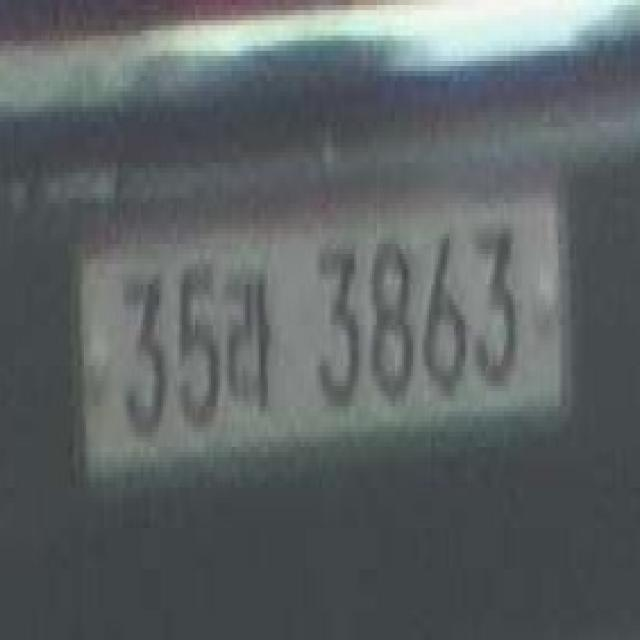3: (120, 269, 168, 437), (474, 218, 520, 386), (318, 239, 361, 411)
5: (172, 264, 222, 427)
6: (420, 229, 467, 396)
8: (368, 239, 415, 411)
la: (222, 264, 274, 417)
license_plate: (72, 168, 570, 482)
